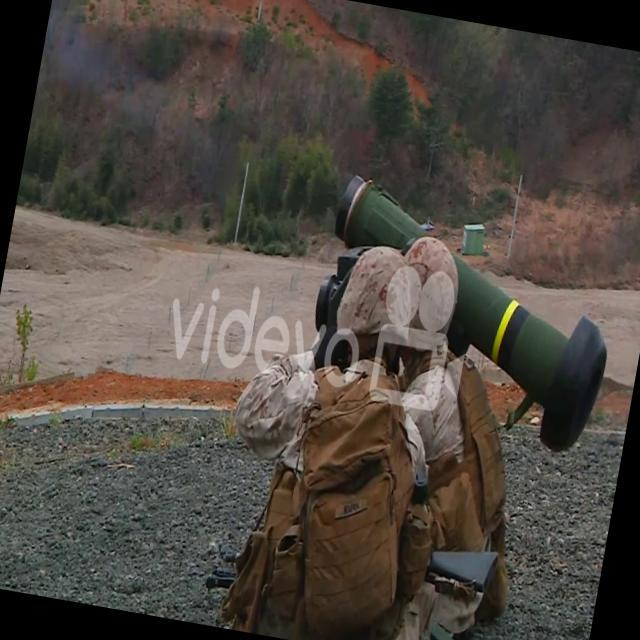rocket: (310, 178, 628, 458)
